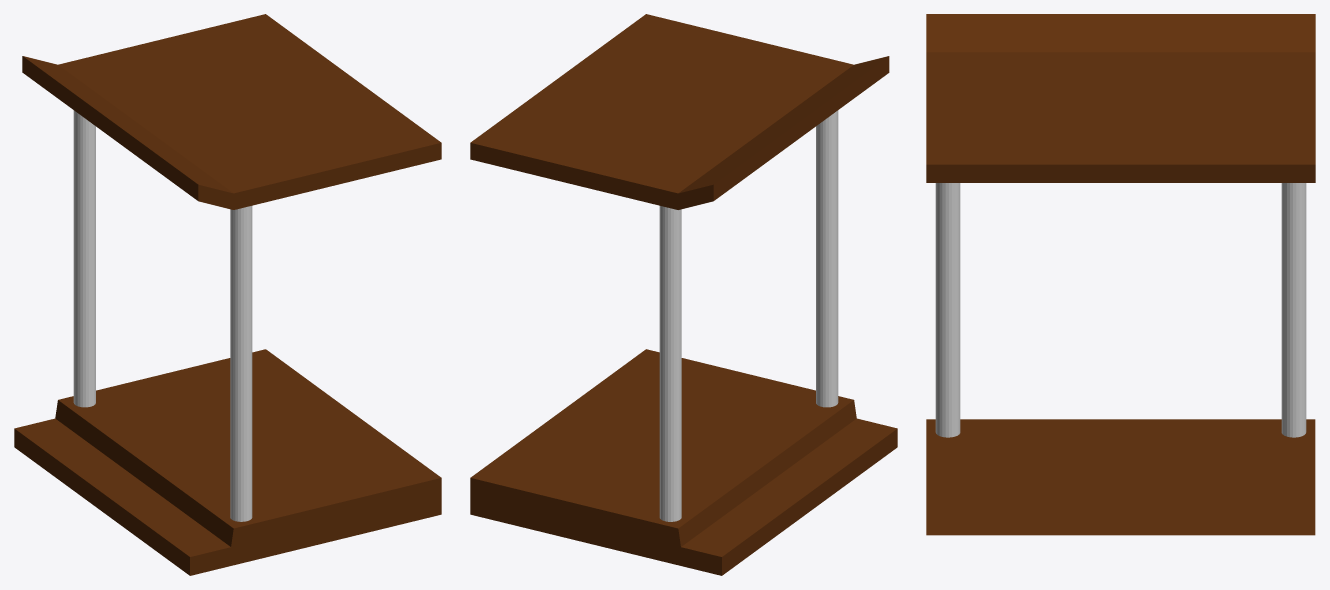
Rendered from entrance old.fbx.
The picture shows the model from 3 angles, left to right: view 1: azimuth 30°, elevation 25°; view 2: azimuth 150°, elevation 25°; view 3: azimuth 270°, elevation 25°; orthographic projection. The views are drawn at different scales.
Parts seen in each view (by area): view 1: entrance, visor, pillars; view 2: entrance, visor, pillars; view 3: visor, entrance, pillars.
Boxes of the visible parts, x1=… form: entrance: x1=14, y1=349, x2=441, y2=575; visor: x1=22, y1=14, x2=441, y2=209; pillars: x1=73, y1=110, x2=252, y2=521; entrance: x1=470, y1=349, x2=897, y2=575; visor: x1=470, y1=14, x2=889, y2=209; pillars: x1=659, y1=110, x2=838, y2=521; visor: x1=926, y1=14, x2=1315, y2=182; entrance: x1=926, y1=419, x2=1315, y2=535; pillars: x1=935, y1=183, x2=1306, y2=437.
Bounding box in the file's own units: 215 × 317 × 260.
